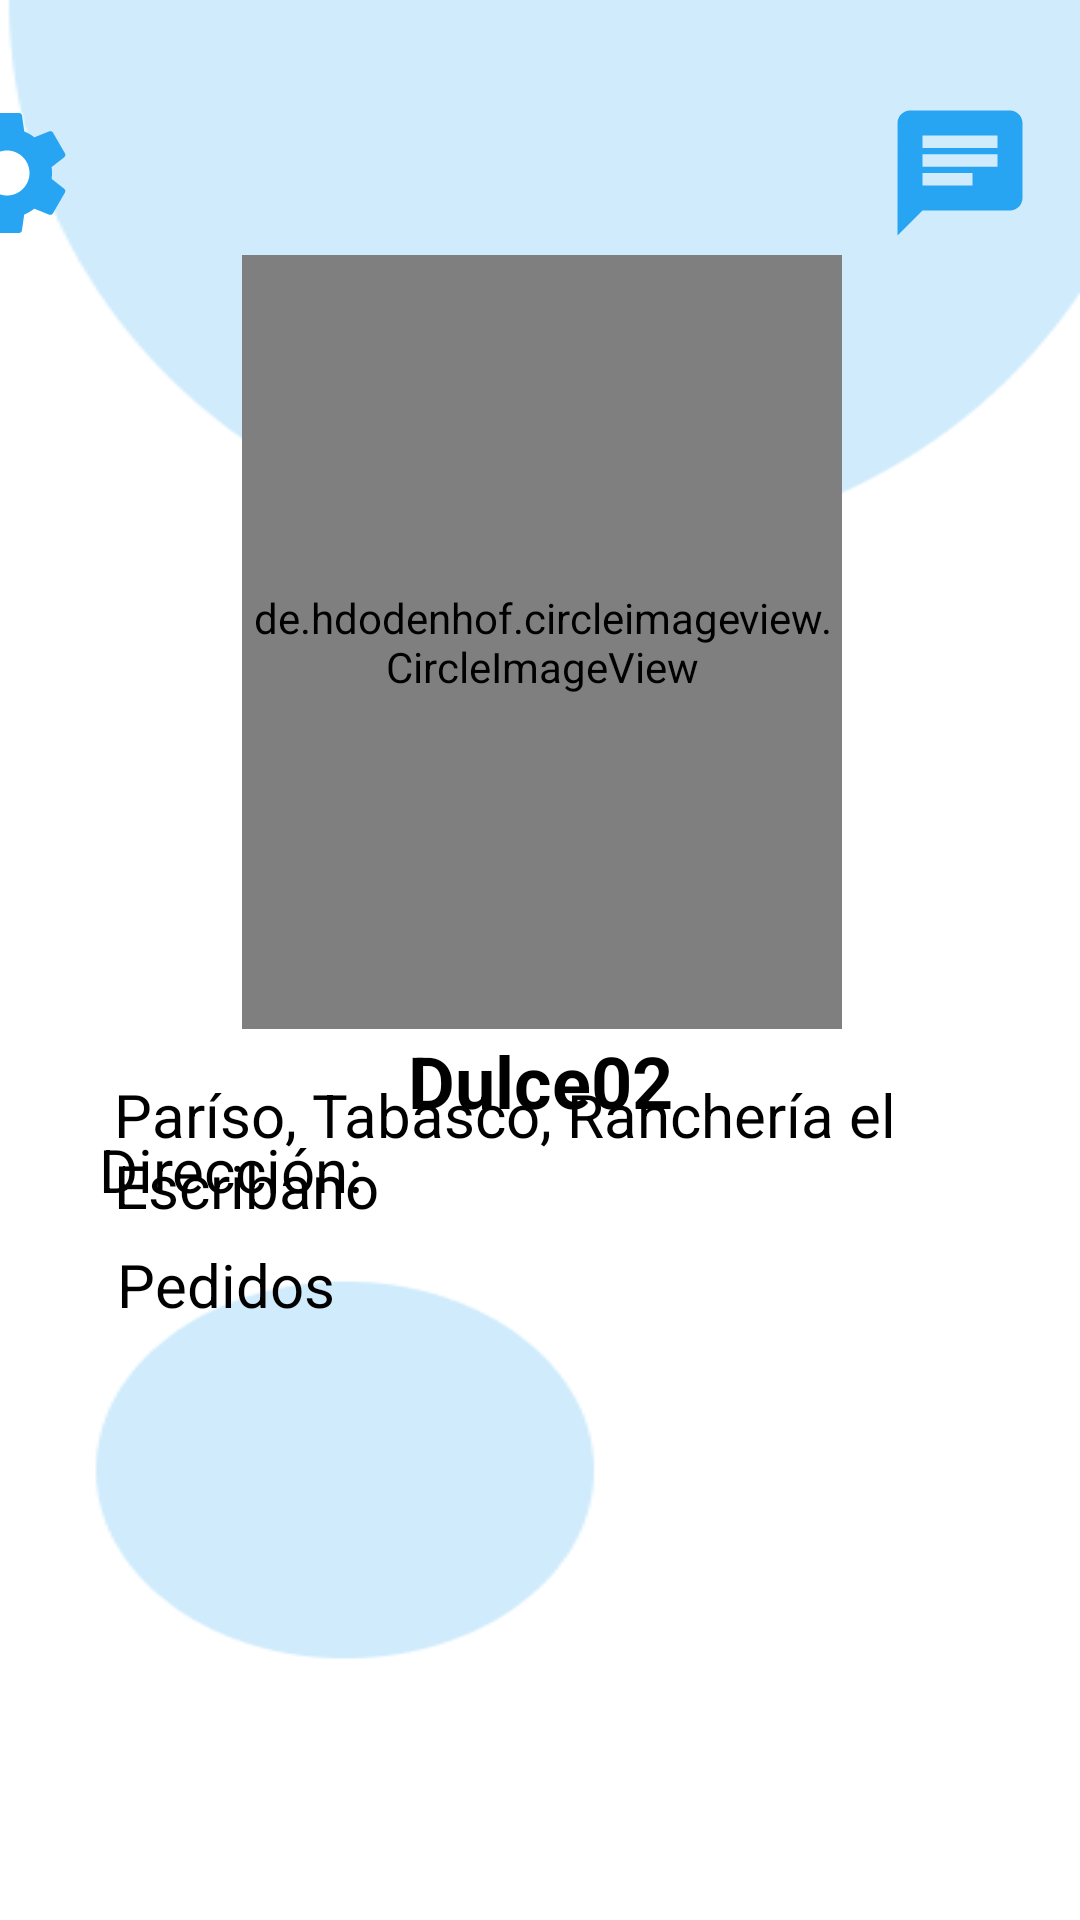

Named icons in this screenshot (1080px×1920px) and their centers, [x,y]:
chat: [960,172]
